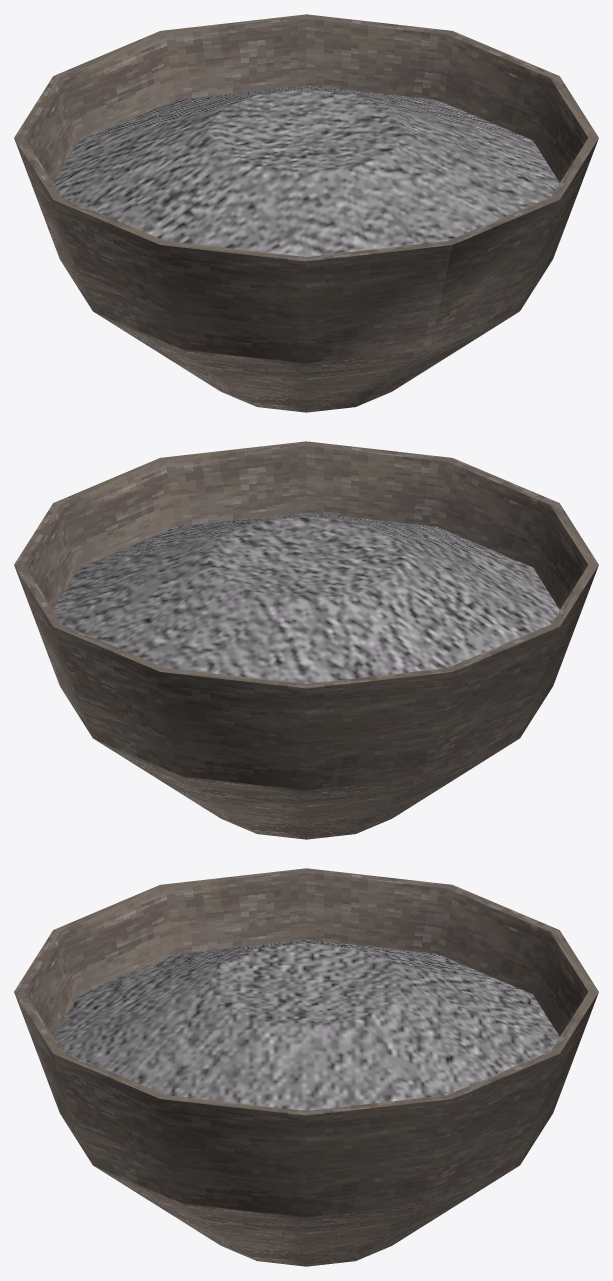
Rendered from bowl01.glb.
3 views of the same model, one above another, from view 1: azimuth 30°, elevation 25°; view 2: azimuth 150°, elevation 25°; view 3: azimuth 270°, elevation 25° (orthographic).
Parts seen in each view (by area): view 1: _bowl01; view 2: _bowl01; view 3: _bowl01.
Part boxes in pixels (box(x1,y1,x2,y2)): _bowl01: box(14, 14, 598, 412); _bowl01: box(14, 441, 598, 839); _bowl01: box(14, 868, 598, 1266).
Size of the model in its own units: 0.4764 by 0.2156 by 0.4763.
2 materials, 2 textured.
